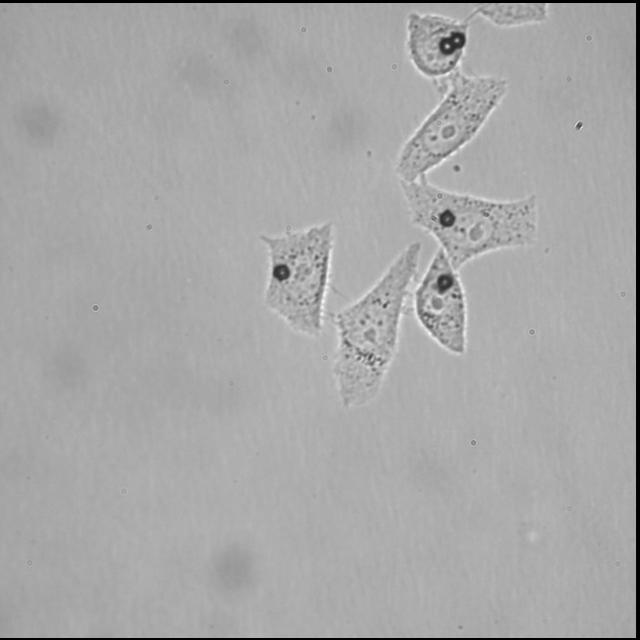microbeads: (439, 207, 459, 227), (449, 28, 467, 48), (436, 274, 454, 292), (439, 34, 455, 54), (275, 264, 289, 280)
